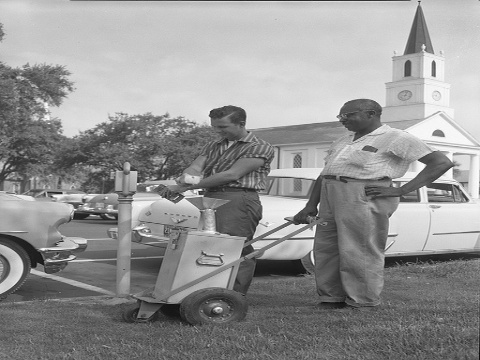hand: (363, 183, 399, 200), (291, 205, 318, 225), (160, 184, 188, 199)
